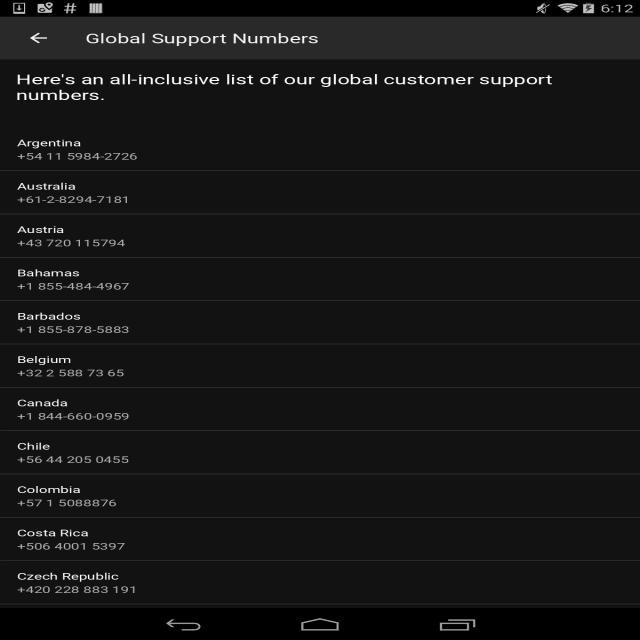ImageButton: (28, 30, 56, 47)
TextView: (16, 69, 562, 91), (80, 27, 330, 46), (11, 567, 141, 596), (20, 137, 143, 164), (15, 269, 136, 293), (13, 537, 132, 552), (22, 453, 137, 466), (15, 482, 94, 494), (17, 397, 74, 409)
